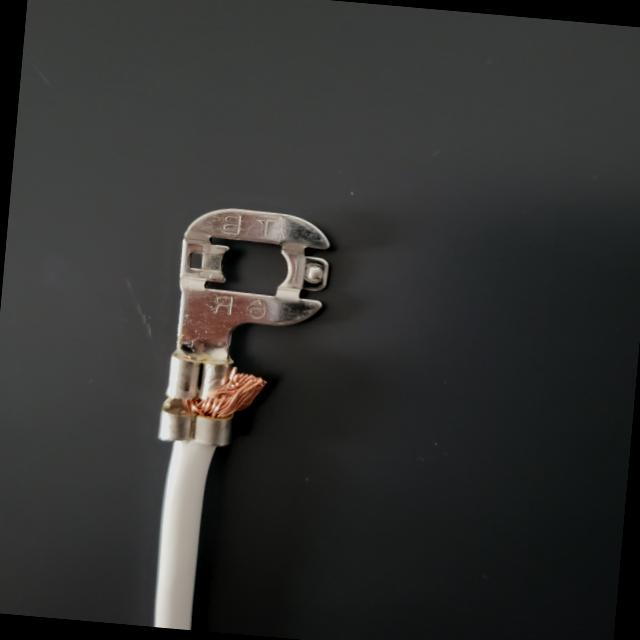defect: (62, 319, 351, 500)
